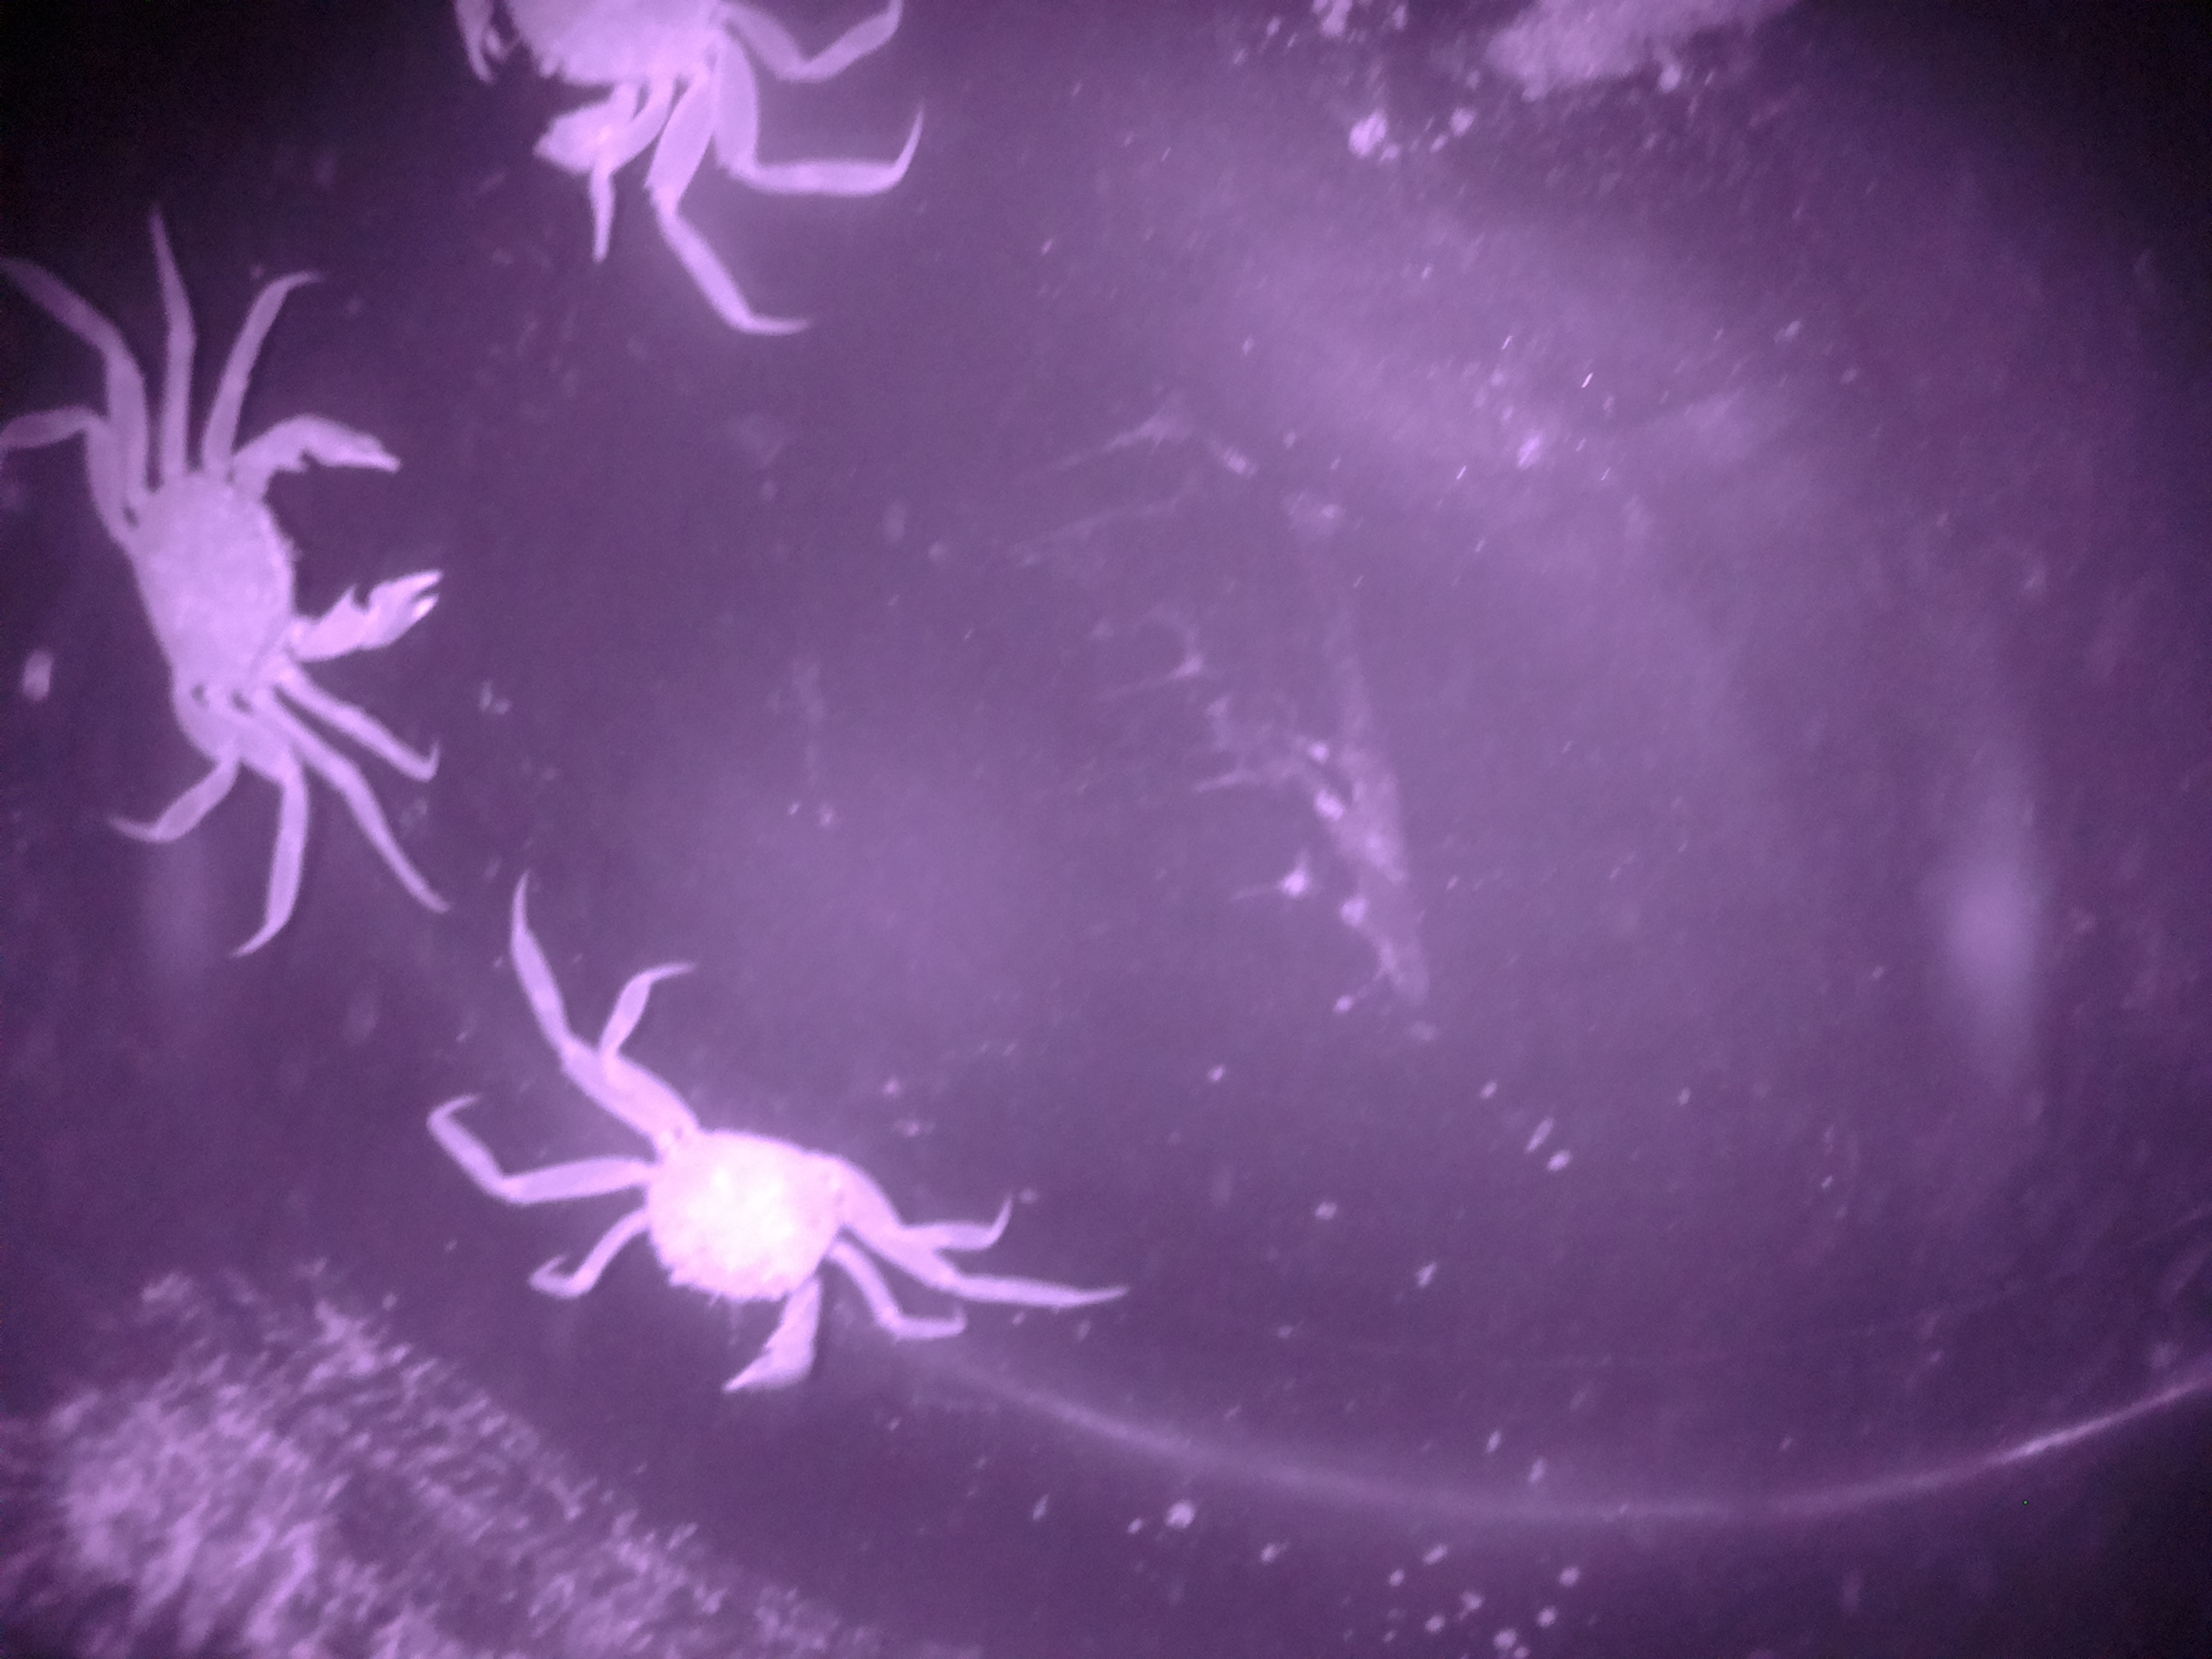Crab: (9, 380, 526, 788), (510, 983, 878, 1431)
